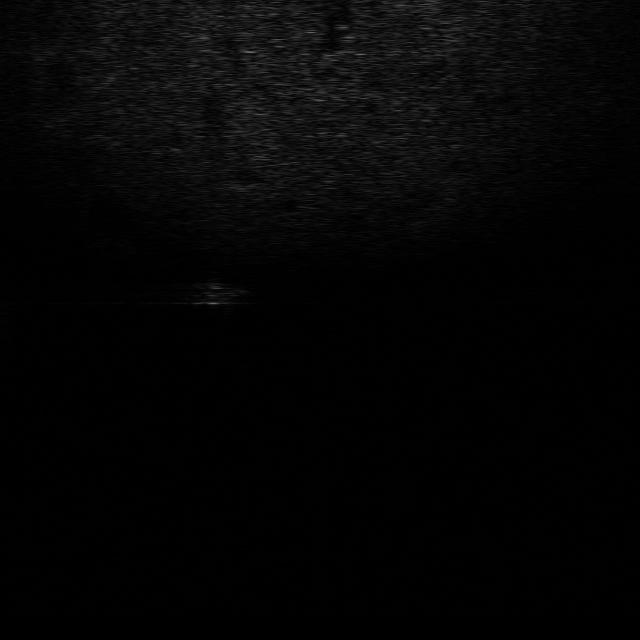human body: (193, 275, 245, 323)
